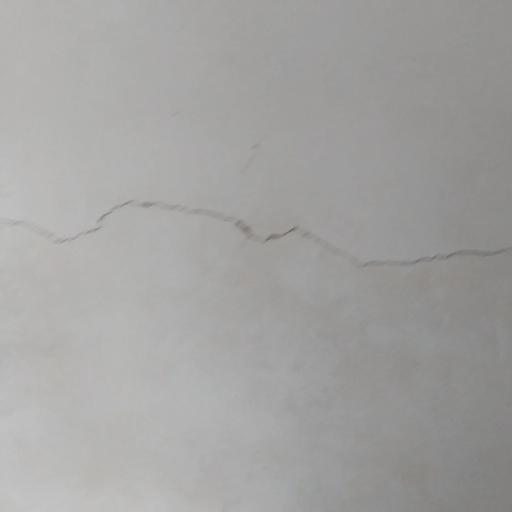minor_crack: (0, 185, 512, 279)
